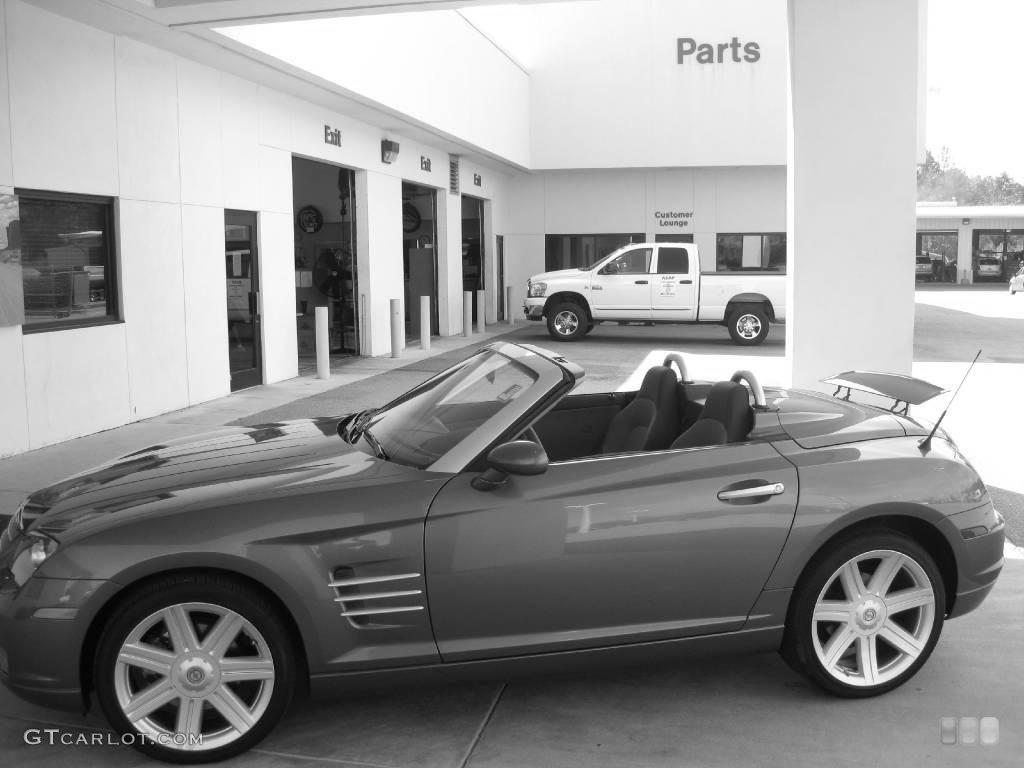car: (1, 343, 1007, 757)
